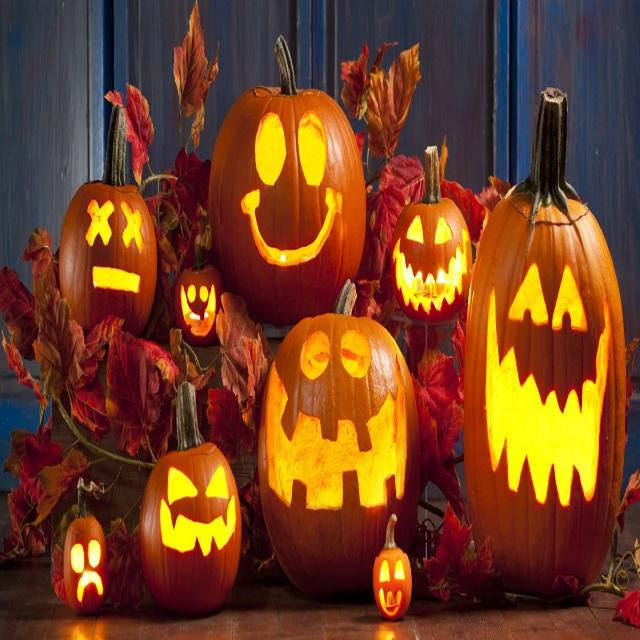pumpkin: (464, 87, 626, 594), (259, 285, 420, 597), (209, 37, 366, 323), (139, 382, 241, 614), (60, 182, 156, 332), (392, 145, 472, 322), (64, 479, 109, 614), (372, 514, 411, 618), (174, 265, 222, 346)
